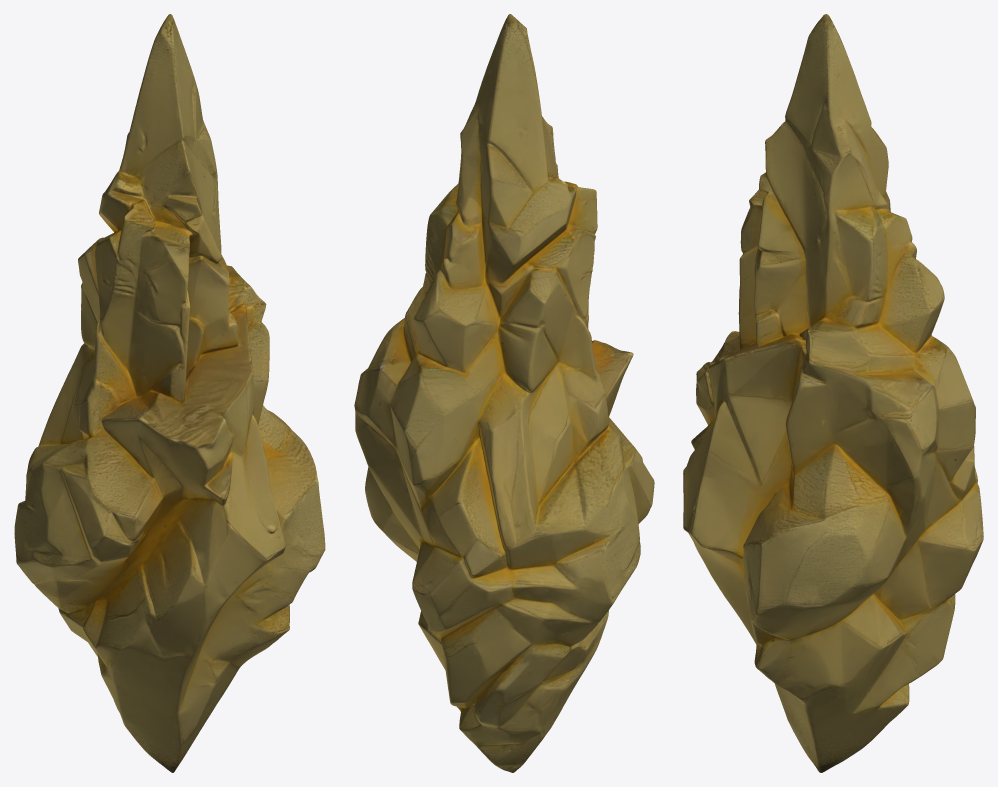
File: Gold Ore 2 150k Compressed.glb
3 views of the same model, side by side, from view 1: azimuth 30°, elevation 25°; view 2: azimuth 150°, elevation 25°; view 3: azimuth 270°, elevation 25° (orthographic).
Parts seen in each view (by area): view 1: node_0; view 2: node_0; view 3: node_0.
Boxes of the visible parts, x1=… form: node_0: x1=14, y1=14, x2=325, y2=772; node_0: x1=354, y1=14, x2=654, y2=772; node_0: x1=683, y1=14, x2=983, y2=772.
Bounding box in the file's own units: 0.427 × 1.2 × 0.4294.
Materials: 1 (1 with a texture image).
